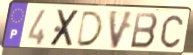4: (26, 8, 48, 48)
B: (129, 11, 160, 50)
C: (159, 13, 185, 50)
D: (75, 10, 105, 48)
V: (108, 8, 136, 51)
X: (48, 9, 82, 48)
